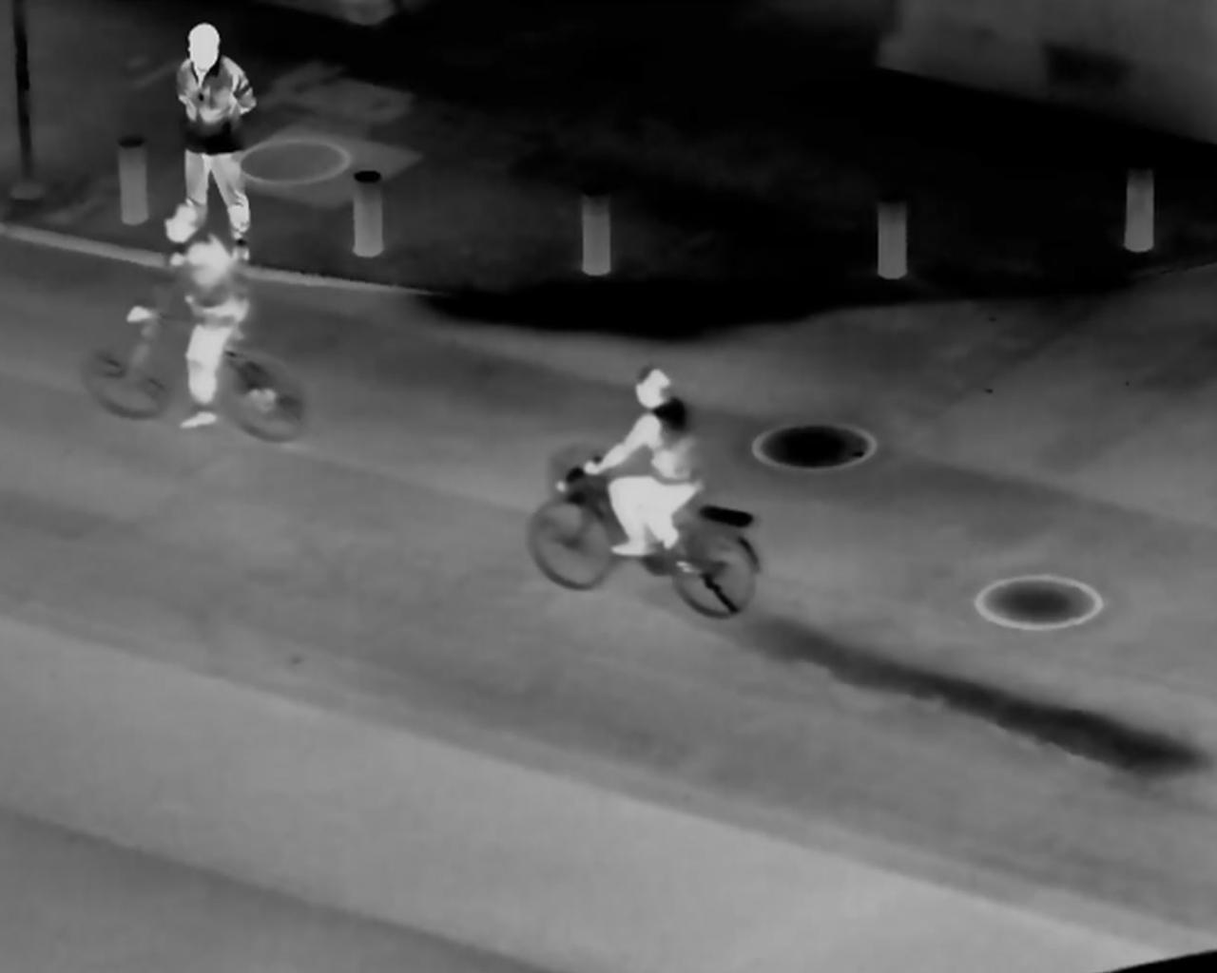person: (126, 206, 256, 433), (576, 351, 707, 569), (166, 19, 259, 256)
